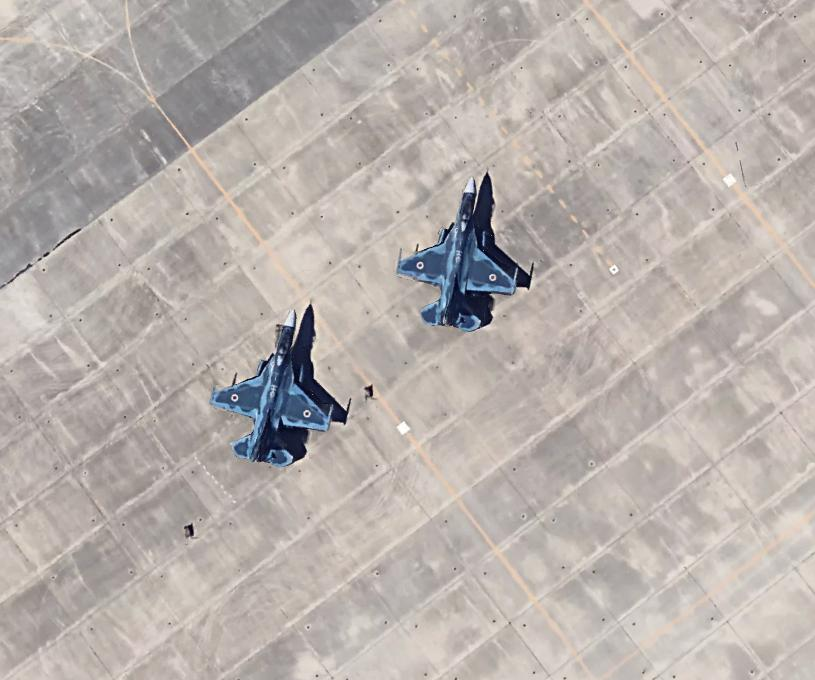A5: (208, 297, 338, 472), (391, 163, 521, 338)
